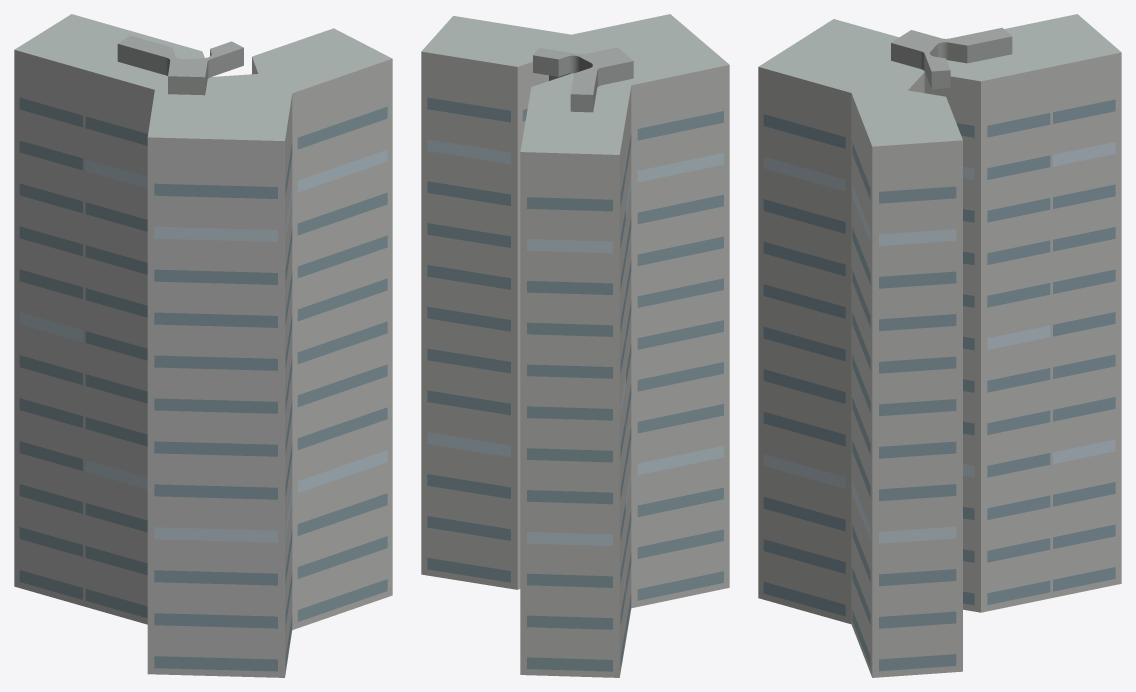
Rendered from fallback-shinbanpo-xi-105.glb.
The picture shows the model from 3 angles, left to right: view 1: azimuth 30°, elevation 25°; view 2: azimuth 150°, elevation 25°; view 3: azimuth 270°, elevation 25°; orthographic projection. The views are drawn at different scales.
Parts seen in each view (by area): view 1: fallback-shinbanpo-xi-105; view 2: fallback-shinbanpo-xi-105; view 3: fallback-shinbanpo-xi-105.
Part boxes in pixels (<box>): fallback-shinbanpo-xi-105: <box>14,14,392,677</box>; fallback-shinbanpo-xi-105: <box>421,14,729,677</box>; fallback-shinbanpo-xi-105: <box>758,14,1121,677</box>.
Bounding box in the file's own units: 38.33 × 74 × 44.39.
